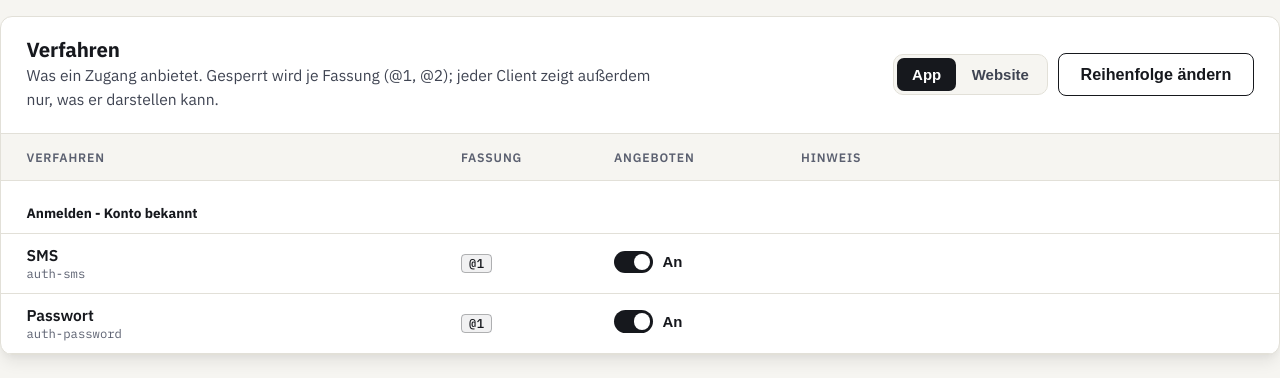
Test: AdminToolAvailabilityView › offers "Speichern" only once the draft differs
This screenshot has width=1280, height=378.
Click the button "Reihenfolge ändern".
click(1156, 75)  # box [1058,53,1254,96]
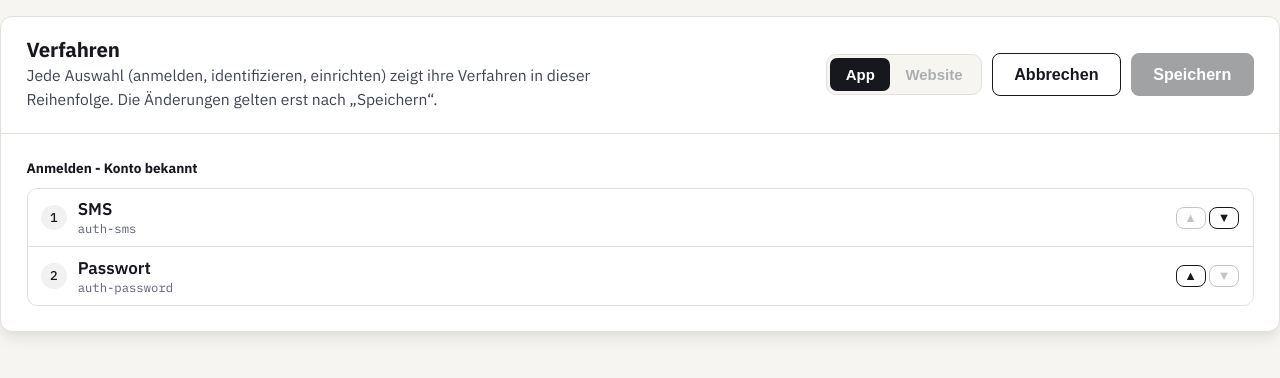
Now the button "Speichern" is disabled, box [1131,53,1254,96]
